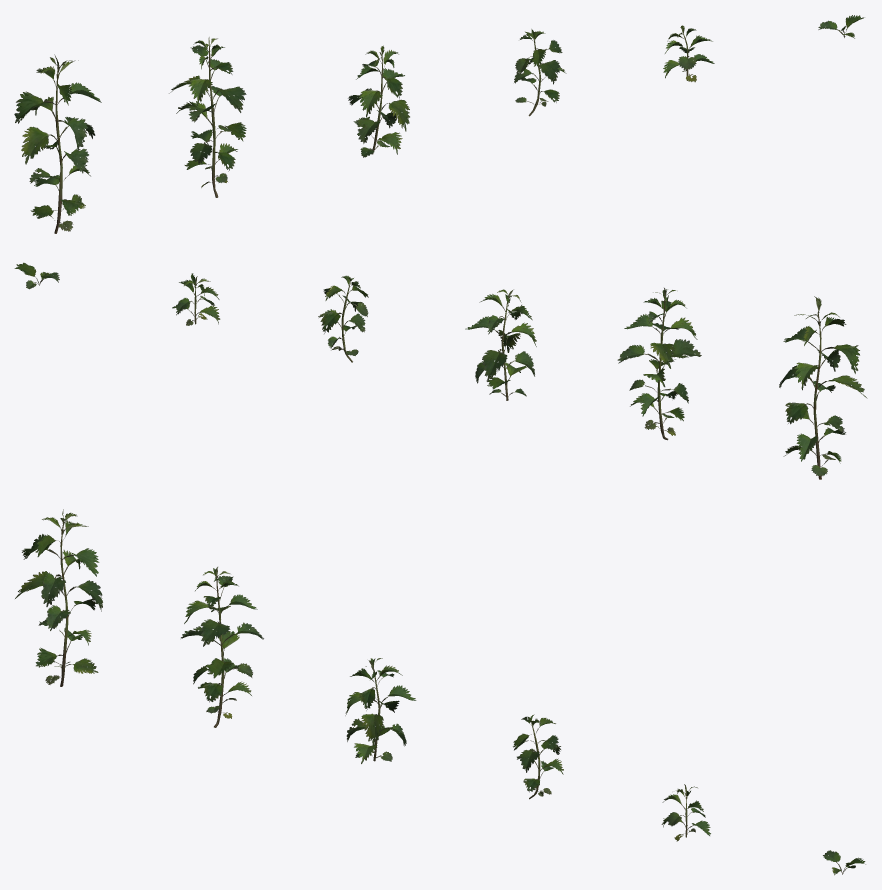
File: nettle_plant.glb
3 views of the same model, one above another, from view 1: azimuth 30°, elevation 25°; view 2: azimuth 150°, elevation 25°; view 3: azimuth 330°, elevation 25° (orthographic).
Visible parts, largest first — view 1: nettle_plant_tall_a_LOD0, nettle_plant_tall_b_LOD0, nettle_plant_medium_a_LOD0, nettle_plant_medium_b_LOD0, nettle_plant_small_a_LOD0; view 2: nettle_plant_tall_a_LOD0, nettle_plant_tall_b_LOD0, nettle_plant_medium_a_LOD0, nettle_plant_medium_b_LOD0, nettle_plant_small_a_LOD0; view 3: nettle_plant_tall_a_LOD0, nettle_plant_tall_b_LOD0, nettle_plant_medium_a_LOD0, nettle_plant_medium_b_LOD0, nettle_plant_small_a_LOD0.
Boxes of the visible parts, x1,y1,x2,y2 form: nettle_plant_tall_a_LOD0: [14, 54, 101, 233]; nettle_plant_tall_b_LOD0: [169, 37, 246, 197]; nettle_plant_medium_a_LOD0: [348, 45, 409, 157]; nettle_plant_medium_b_LOD0: [514, 29, 566, 116]; nettle_plant_small_a_LOD0: [663, 25, 714, 82]; nettle_plant_tall_a_LOD0: [779, 296, 867, 479]; nettle_plant_tall_b_LOD0: [617, 288, 701, 440]; nettle_plant_medium_a_LOD0: [465, 289, 536, 400]; nettle_plant_medium_b_LOD0: [318, 275, 368, 362]; nettle_plant_small_a_LOD0: [172, 273, 220, 325]; nettle_plant_tall_a_LOD0: [15, 509, 102, 686]; nettle_plant_tall_b_LOD0: [181, 567, 263, 727]; nettle_plant_medium_a_LOD0: [345, 658, 416, 763]; nettle_plant_medium_b_LOD0: [513, 714, 563, 799]; nettle_plant_small_a_LOD0: [661, 784, 710, 841].
Bounding box in the file's own units: 1.08 × 0.2181 × 0.0947.
Materials: 1 (1 with a texture image).
